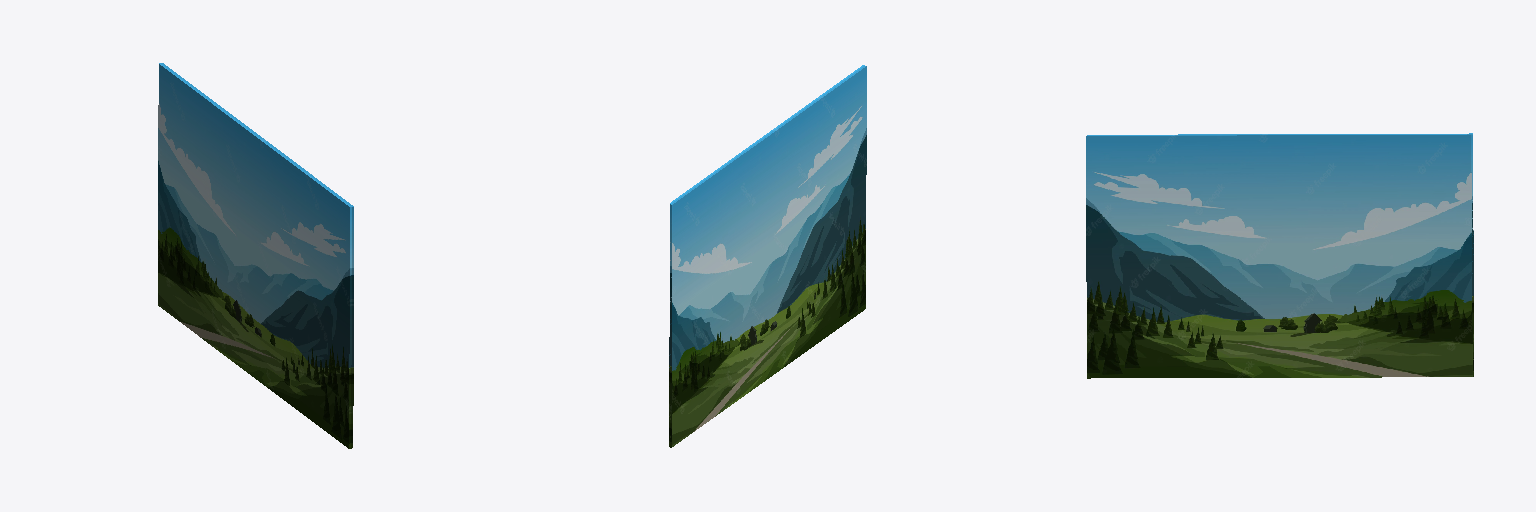
The picture shows the model from 3 angles: view 1: azimuth 30°, elevation 25°; view 2: azimuth 150°, elevation 25°; view 3: azimuth 270°, elevation 25°; orthographic projection.
Parts seen in each view (by area): view 1: Plane.001_Plane.001; view 2: Plane.001_Plane.001; view 3: Plane.001_Plane.001.
Part boxes in pixels (x1,y1,x2,y2): Plane.001_Plane.001: (158,63,353,448); Plane.001_Plane.001: (669,65,866,447); Plane.001_Plane.001: (1086,133,1473,378).
Size of the model in its own units: 0.0482 by 2.32 by 3.33.
Materials: 1 (1 with a texture image).